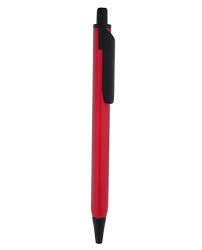pen: (77, 3, 122, 247)
